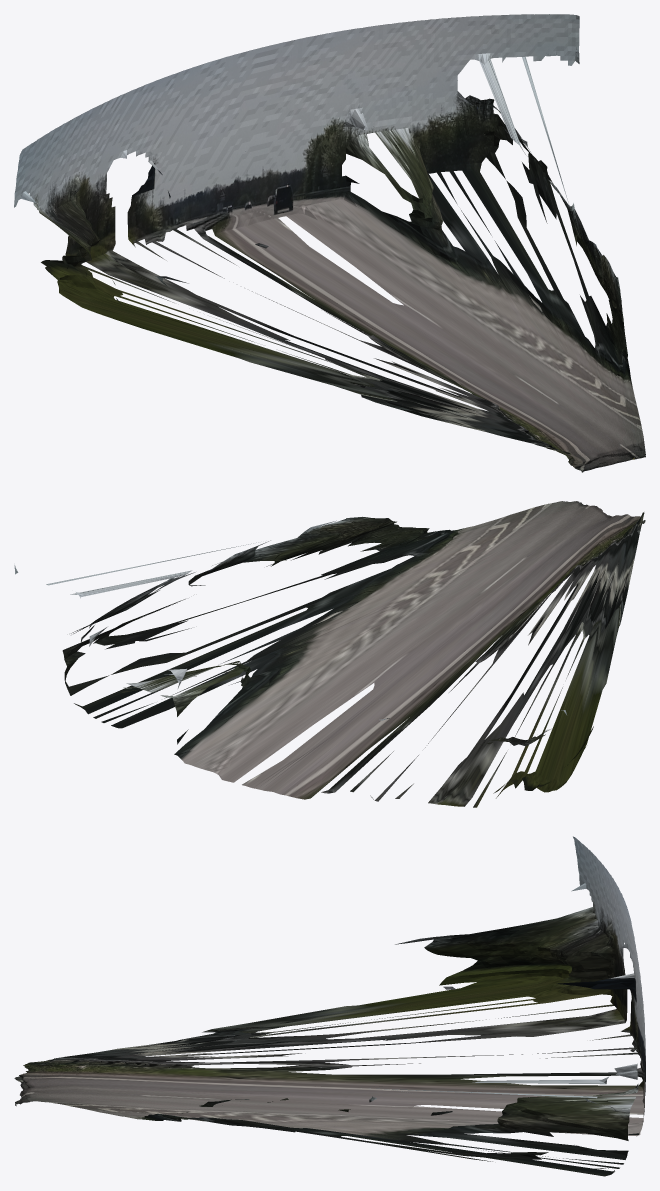
The picture shows the model from 3 angles, top to bottom: view 1: azimuth 30°, elevation 25°; view 2: azimuth 150°, elevation 25°; view 3: azimuth 270°, elevation 25°; orthographic projection. The views are drawn at different scales.
Parts seen in each view (by area): view 1: defaultobject; view 2: defaultobject; view 3: defaultobject.
Boxes of the visible parts, x1,y1,x2,y2 form: defaultobject: (14,14,645,472); defaultobject: (14,501,645,807); defaultobject: (14,836,645,1176).
Bounding box in the file's own units: 40.89 × 12.64 × 44.66.
1 material, 1 textured.
